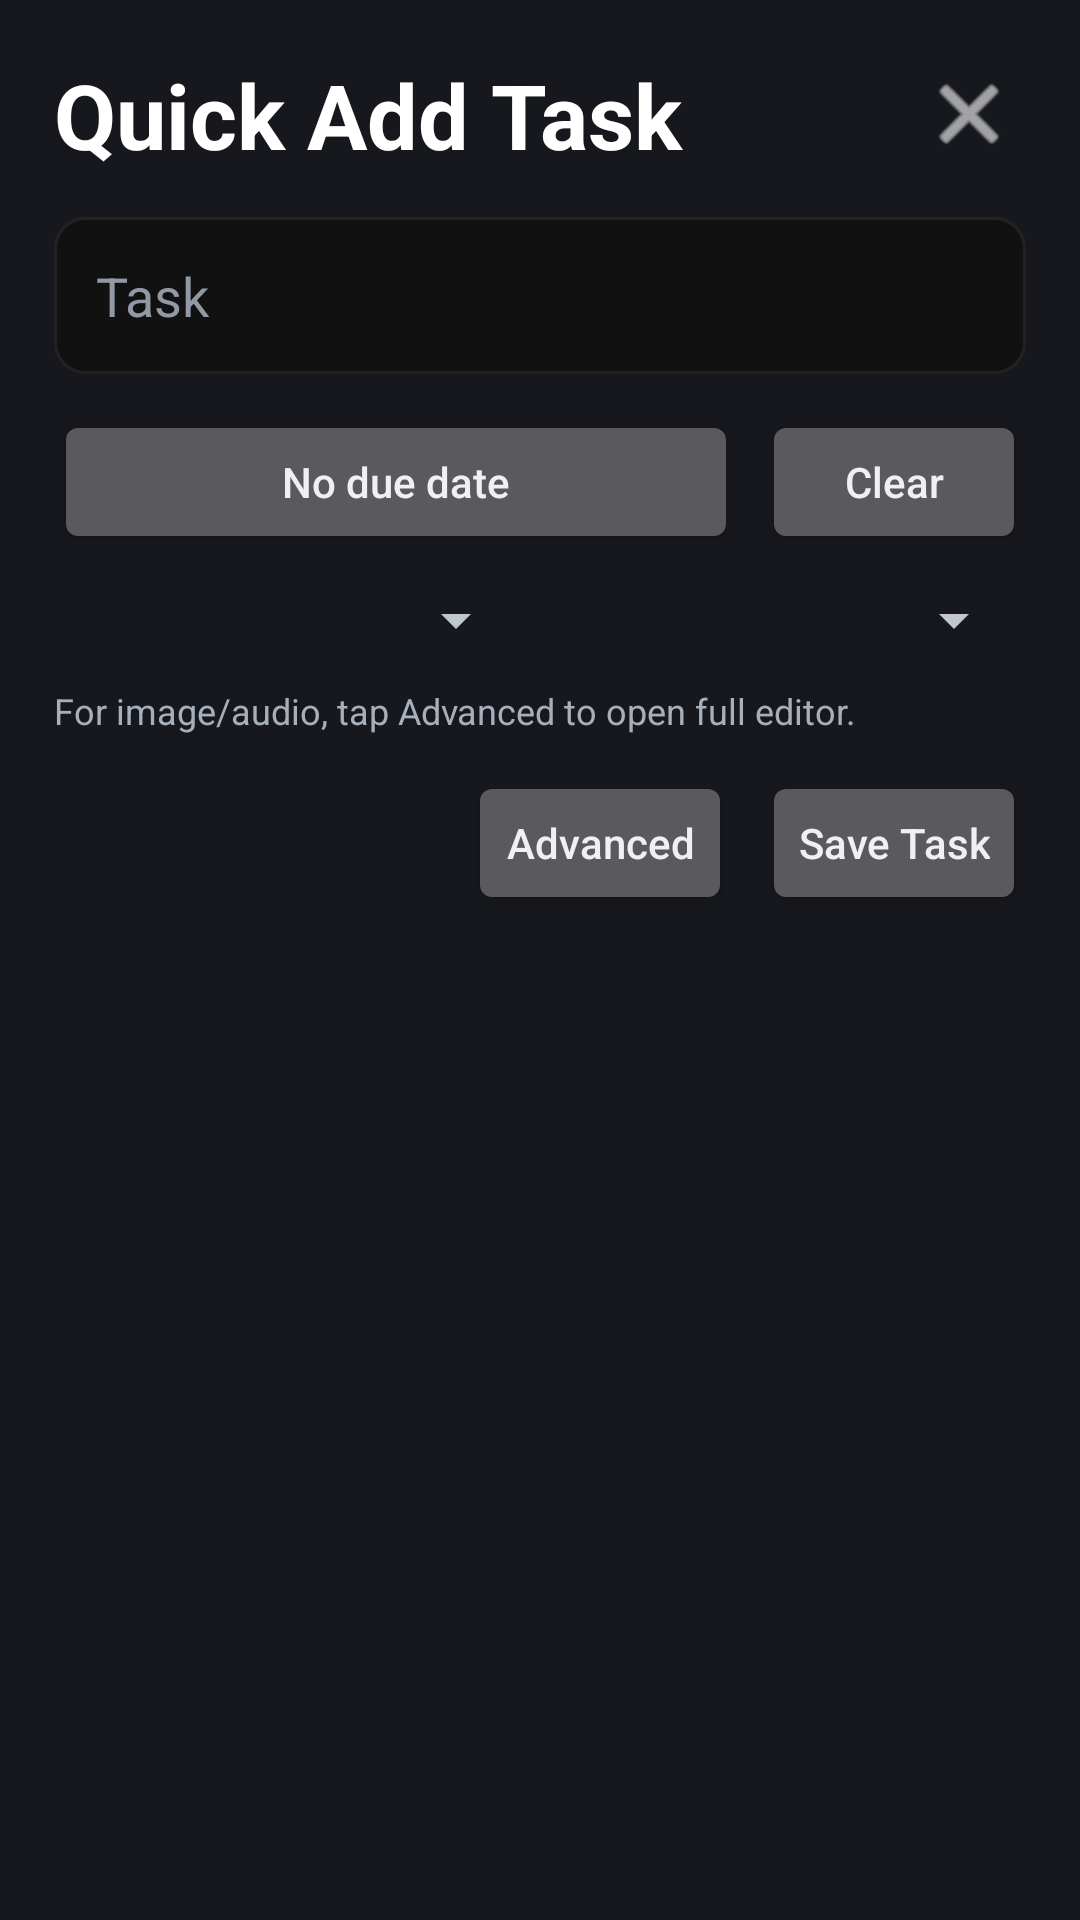

Locate icon controls on the screen. Image size 1080 × 1920, boxes as [x1, y1, x2, y2].
Cancel: [939, 84, 999, 144]
